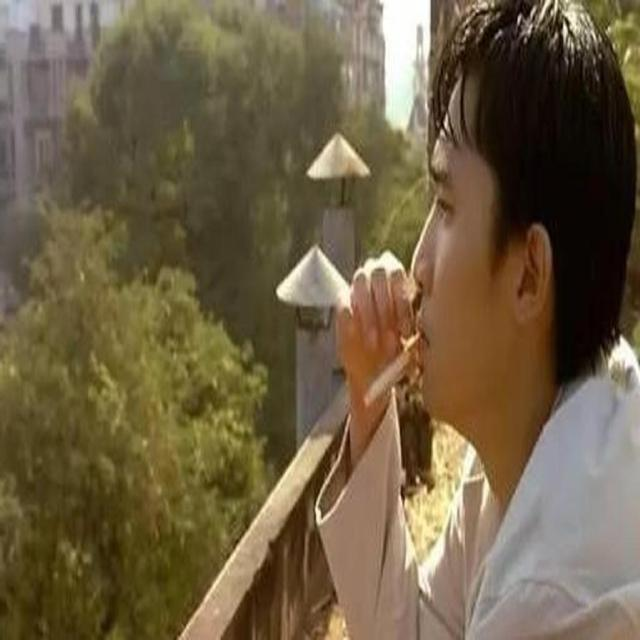smoking: (330, 5, 631, 440)
